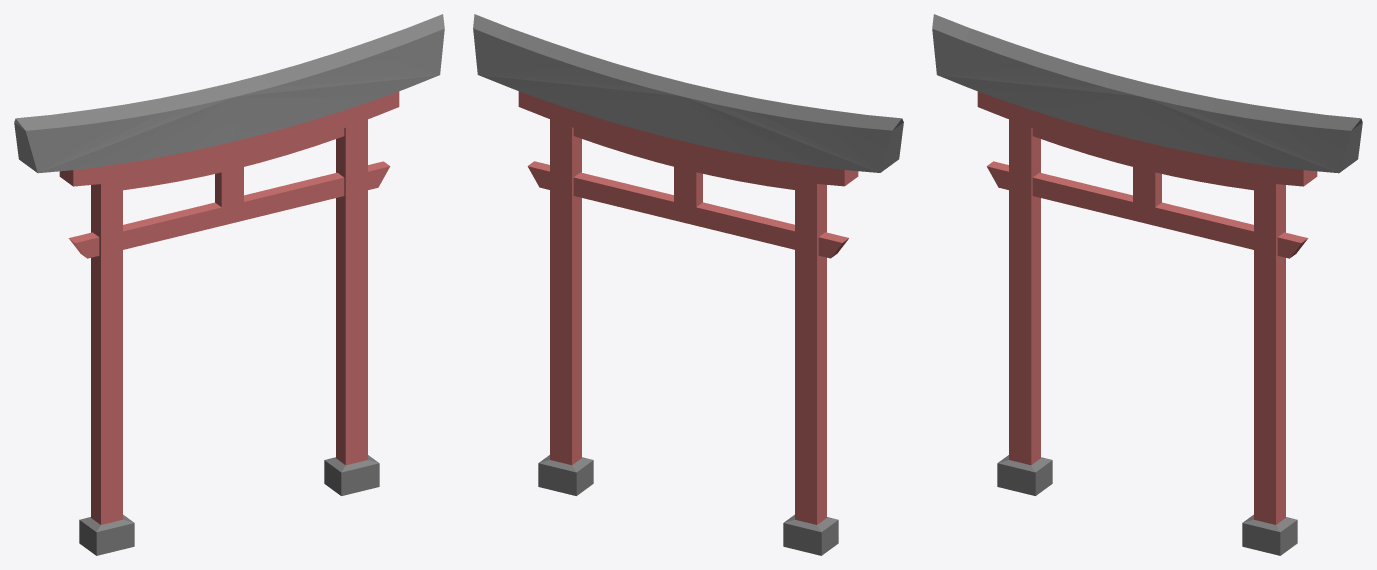
Rendered from gate.fbx.
The picture shows the model from 3 angles, left to right: view 1: azimuth 30°, elevation 25°; view 2: azimuth 150°, elevation 25°; view 3: azimuth 330°, elevation 25°; orthographic projection.
Visible parts, largest first — view 1: Asian_Prop_Torii_Gate_01, Asian_Prop_Torii_Gate_01.001; view 2: Asian_Prop_Torii_Gate_01, Asian_Prop_Torii_Gate_01.001; view 3: Asian_Prop_Torii_Gate_01, Asian_Prop_Torii_Gate_01.001.
Boxes of the visible parts, x1=… form: Asian_Prop_Torii_Gate_01: x1=59, y1=91, x2=399, y2=524; Asian_Prop_Torii_Gate_01.001: x1=14, y1=14, x2=444, y2=555; Asian_Prop_Torii_Gate_01: x1=518, y1=91, x2=858, y2=524; Asian_Prop_Torii_Gate_01.001: x1=473, y1=14, x2=903, y2=555; Asian_Prop_Torii_Gate_01: x1=977, y1=91, x2=1317, y2=524; Asian_Prop_Torii_Gate_01.001: x1=932, y1=14, x2=1362, y2=555.
Bounding box in the file's own units: 900 × 904 × 68.9.
